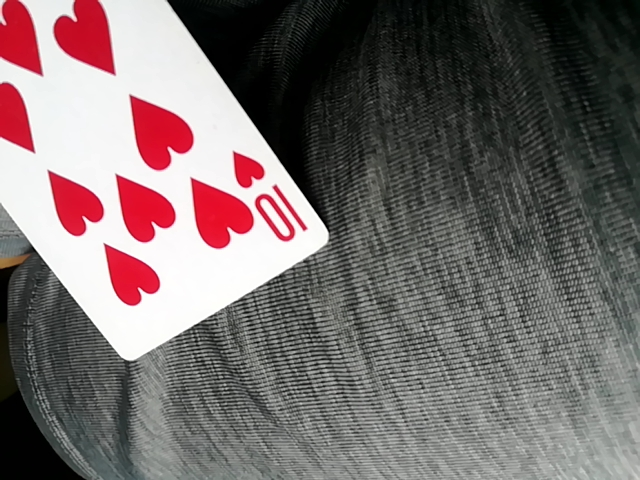hx 10: (0, 0, 328, 361)
